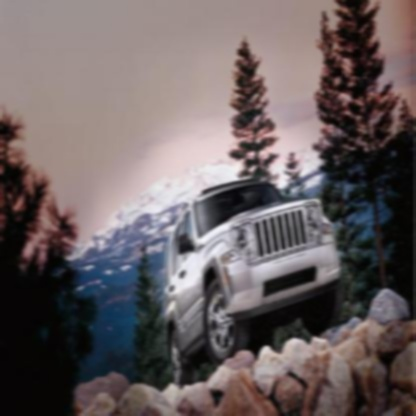Vehicle: (165, 180, 344, 390)
